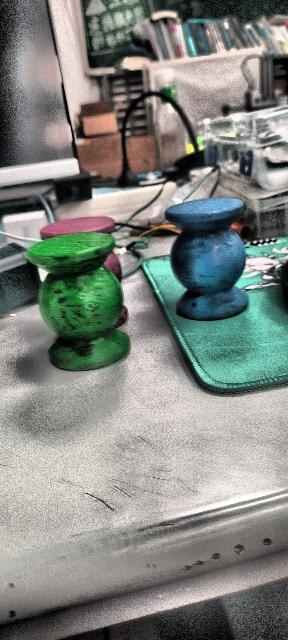blue: (165, 196, 249, 320)
green: (23, 231, 130, 375)
red: (40, 217, 115, 239), (103, 237, 123, 295)
